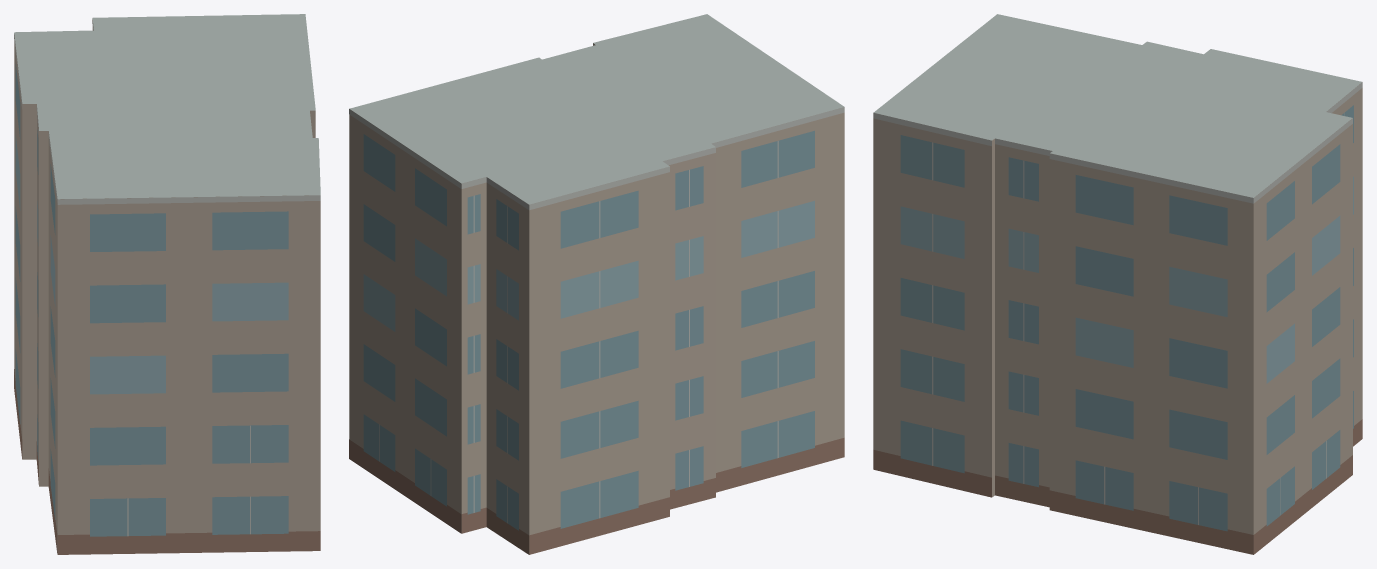
File: survey-upis-33024577.glb
3 views of the same model, side by side, from view 1: azimuth 30°, elevation 25°; view 2: azimuth 150°, elevation 25°; view 3: azimuth 270°, elevation 25° (orthographic).
Visible parts, largest first — view 1: survey-upis-33024577.tmp; view 2: survey-upis-33024577.tmp; view 3: survey-upis-33024577.tmp.
Boxes of the visible parts, box(x1,y1,x2,y2) form: survey-upis-33024577.tmp: box(14, 14, 320, 554); survey-upis-33024577.tmp: box(349, 14, 844, 554); survey-upis-33024577.tmp: box(873, 14, 1362, 554).
Bounding box in the file's own units: 16.86 × 15.25 × 18.95.
